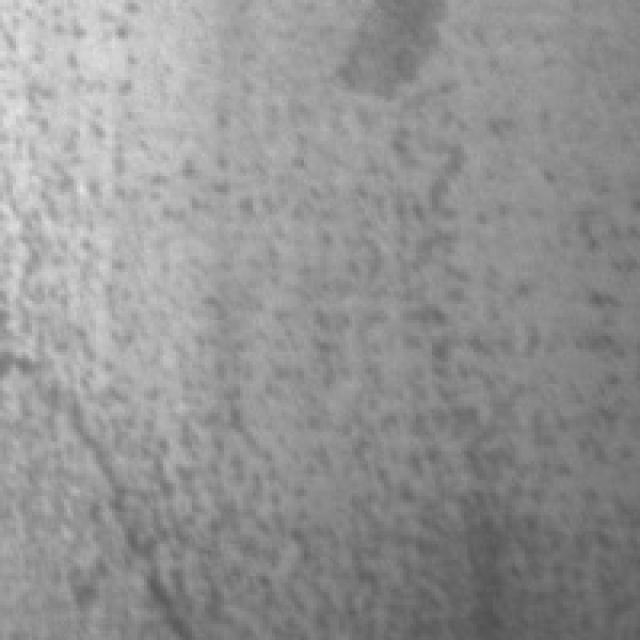pitted_surface: (35, 0, 634, 608)
